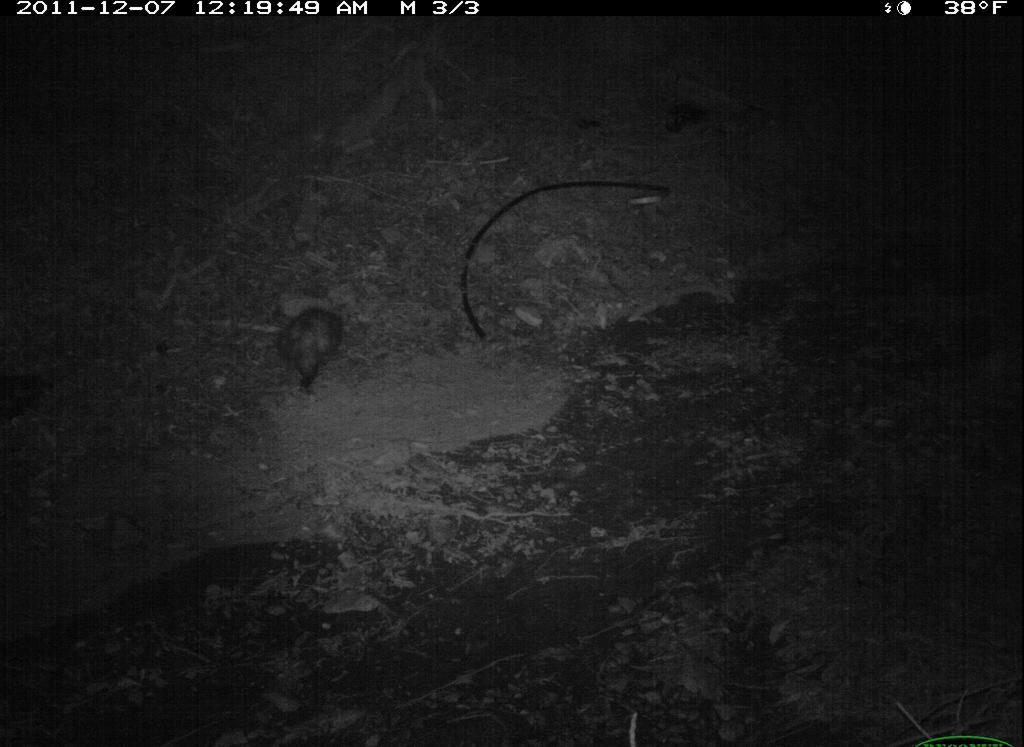opossum: (267, 299, 360, 399)
